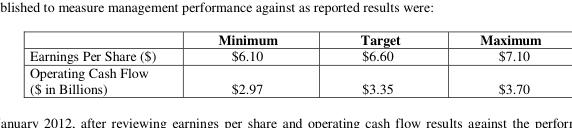table: (28, 29, 540, 96)
table column: (28, 29, 186, 96), (186, 29, 318, 96), (318, 29, 439, 96), (439, 29, 540, 96)
table column header: (28, 29, 540, 47)
table row: (28, 63, 540, 96), (28, 29, 540, 47), (28, 47, 540, 63)
